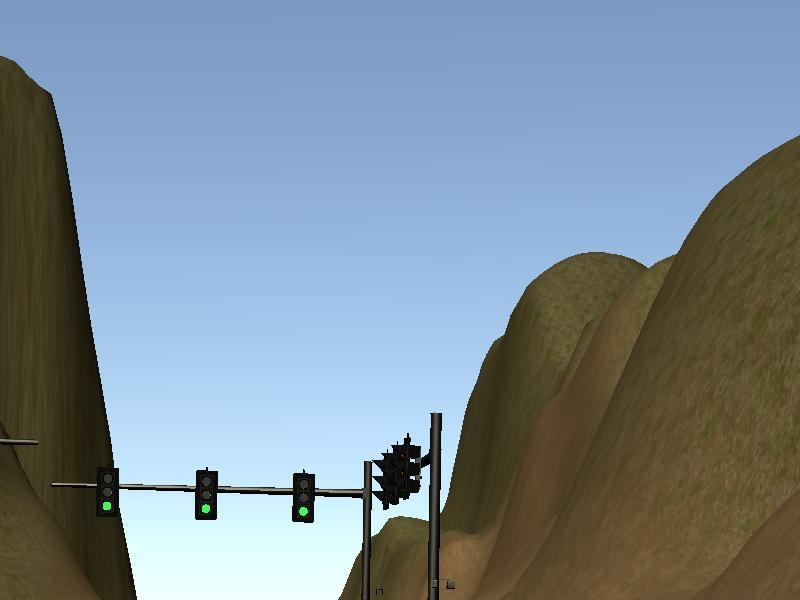green: (95, 468, 119, 516), (196, 471, 216, 518), (294, 474, 313, 522)
